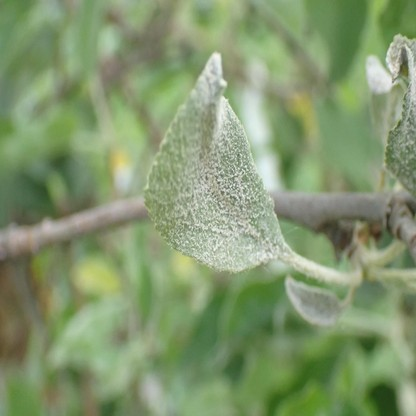powder: (145, 51, 283, 270), (387, 34, 416, 199), (366, 55, 408, 140), (285, 275, 342, 325)
